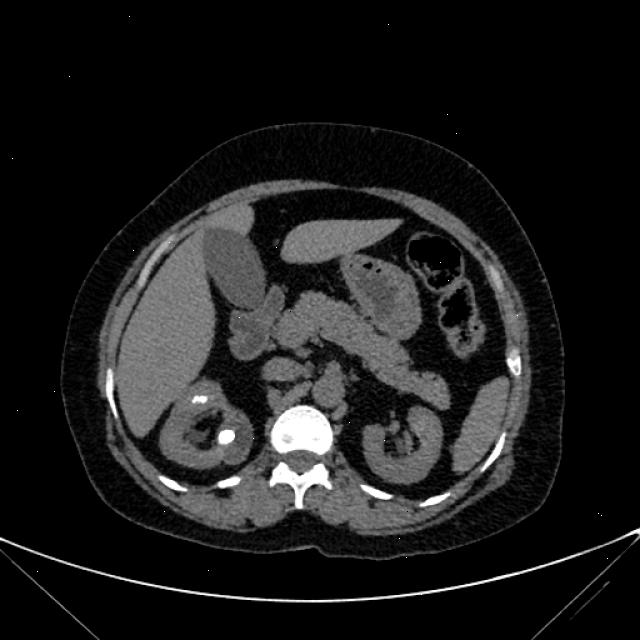kidneystone: (218, 429, 235, 444), (190, 394, 208, 405)
